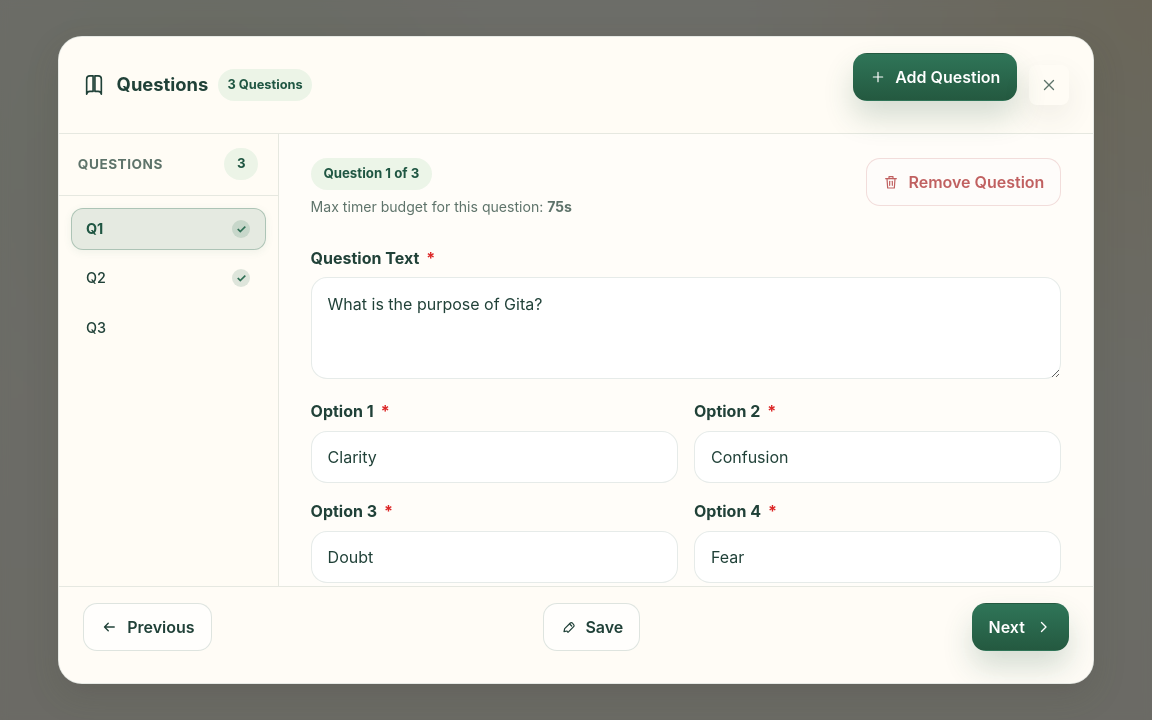
Test case: Question Management Workspace › navigates between questions using Navigator, Next, and Previous in Dialog
This screenshot has width=1152, height=720.
Expected: the text box showing "What is the purpose of Gita?" is shown, x1=311 y1=277 x2=1061 y2=380
Expected: the button "Previous" is disabled, x1=83 y1=603 x2=212 y2=651
Note: Click Next (Q1 is valid, so it proceeds to Q2)
Click the button "Next".
click(1020, 627)  # box x1=972 y1=603 x2=1069 y2=651
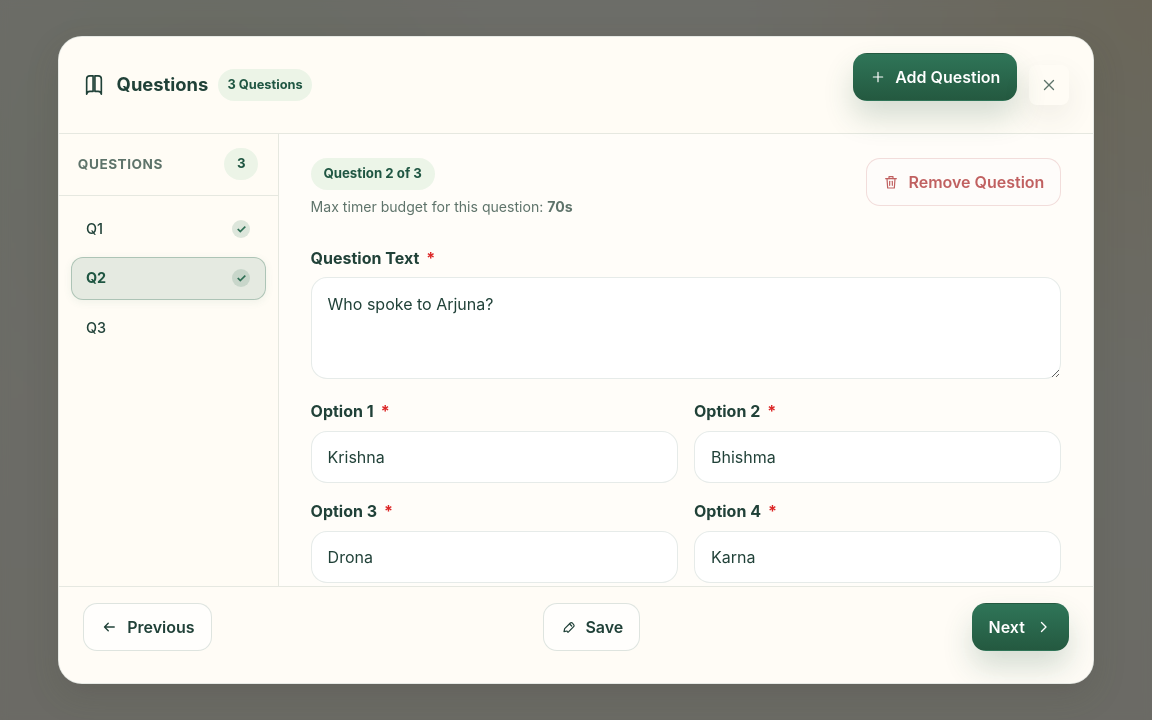
Expected: the button "Previous" is enabled, x1=83 y1=603 x2=212 y2=651
Expected: the text box showing "Who spoke to Arjuna?" is shown, x1=311 y1=277 x2=1061 y2=380
Note: Click Q1 in navigator directly
Click the button named "Question 1".
click(168, 229)  # box x1=71 y1=208 x2=266 y2=250
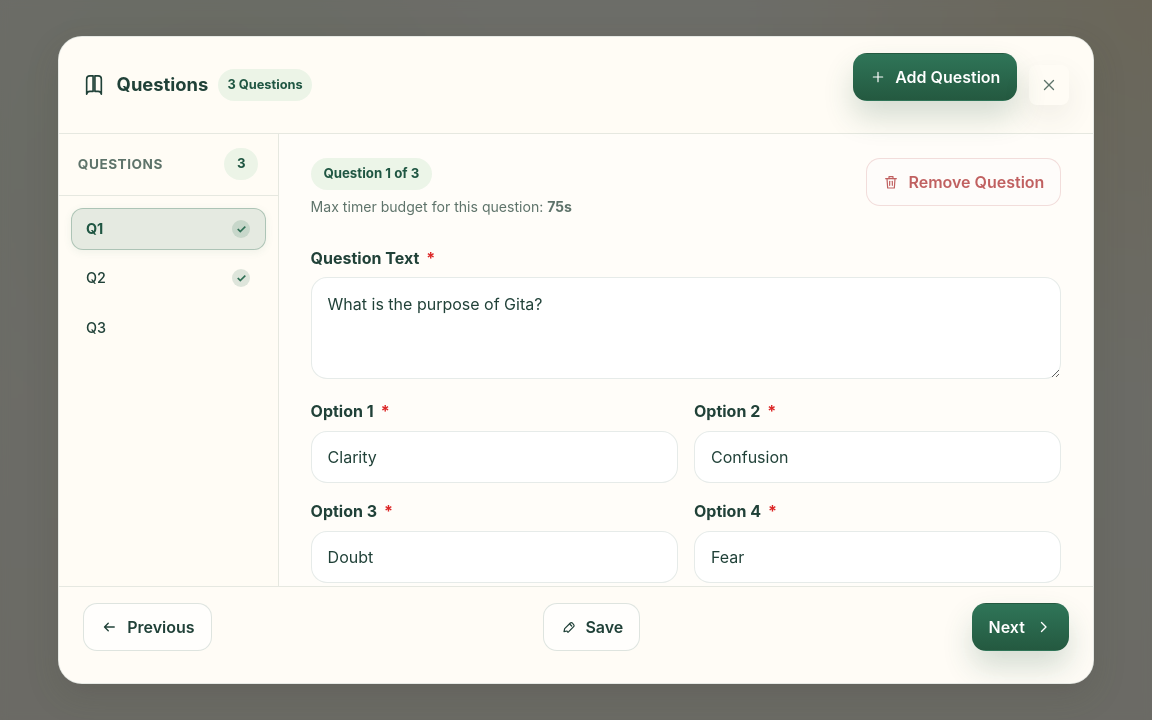
Expected: the text box showing "What is the purpose of Gita?" is shown, x1=311 y1=277 x2=1061 y2=380
